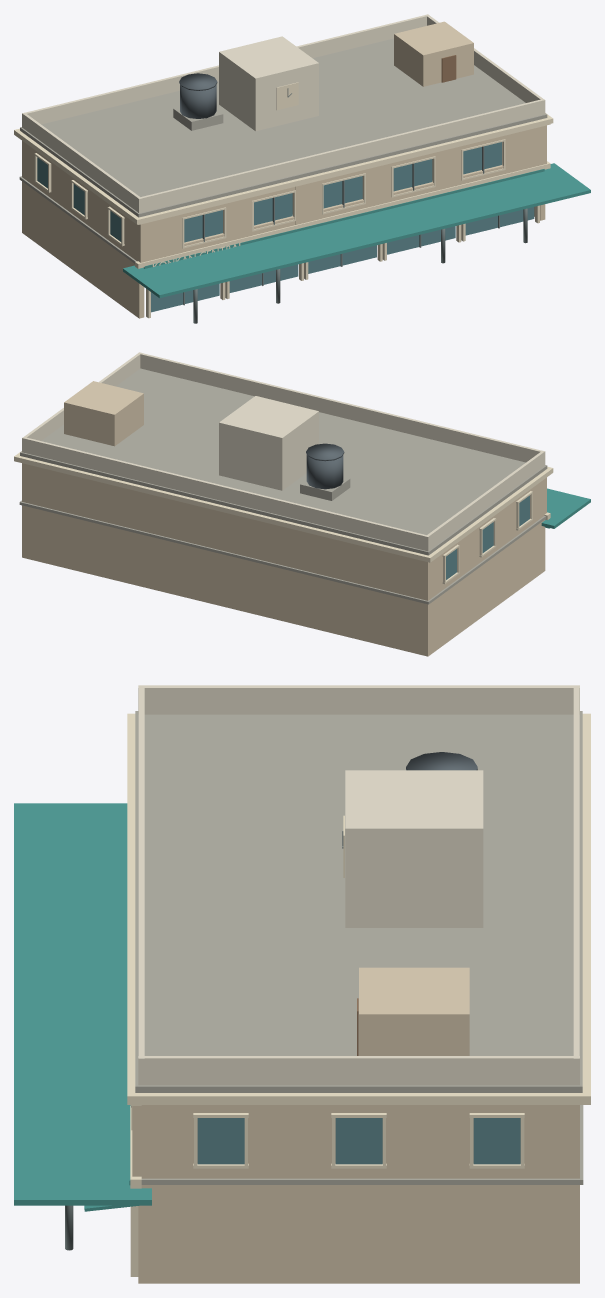
File: station-medium.glb
3 renders of one model, top to bottom at view 1: azimuth 30°, elevation 25°; view 2: azimuth 150°, elevation 25°; view 3: azimuth 270°, elevation 25°, orthographic. The views are drawn at different scales.
Parts seen in each view (by area): view 1: station_CONCRETE, station_PLASTER, station_PLASTER_LIGHT, station_AWNING, station_CREAM, station_GLASS, station_TANK, station_METAL; view 2: station_PLASTER, station_CONCRETE, station_PLASTER_LIGHT, station_CREAM, station_TANK, station_AWNING, station_GLASS; view 3: station_CONCRETE, station_PLASTER, station_PLASTER_LIGHT, station_AWNING, station_CREAM, station_GLASS, station_TANK.
Part boxes in pixels (x1=…): station_CONCRETE: x1=19, y1=38, x2=547, y2=263; station_PLASTER: x1=22, y1=21, x2=546, y2=318; station_PLASTER_LIGHT: x1=22, y1=14, x2=545, y2=213; station_AWNING: x1=123, y1=163, x2=590, y2=298; station_CREAM: x1=14, y1=82, x2=553, y2=318; station_GLASS: x1=37, y1=142, x2=534, y2=312; station_TANK: x1=179, y1=73, x2=217, y2=118; station_METAL: x1=183, y1=88, x2=527, y2=323; station_PLASTER: x1=22, y1=381, x2=546, y2=656; station_CONCRETE: x1=19, y1=368, x2=547, y2=604; station_PLASTER_LIGHT: x1=22, y1=352, x2=545, y2=551; station_CREAM: x1=14, y1=451, x2=553, y2=584; station_TANK: x1=306, y1=443, x2=344, y2=489; station_AWNING: x1=541, y1=488, x2=590, y2=528; station_GLASS: x1=446, y1=495, x2=529, y2=579; station_CONCRETE: x1=135, y1=711, x2=583, y2=1184; station_PLASTER: x1=132, y1=967, x2=579, y2=1283; station_PLASTER_LIGHT: x1=138, y1=685, x2=579, y2=1085; station_AWNING: x1=14, y1=803, x2=151, y2=1211; station_CREAM: x1=127, y1=713, x2=590, y2=1276; station_GLASS: x1=197, y1=1118, x2=520, y2=1164; station_TANK: x1=406, y1=752, x2=477, y2=770.
Size of the model in its own units: 34 by 11.9 by 20.9.
